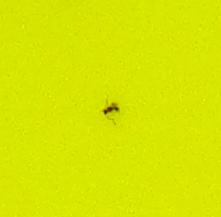Hymenoptera: (100, 100, 121, 117)
